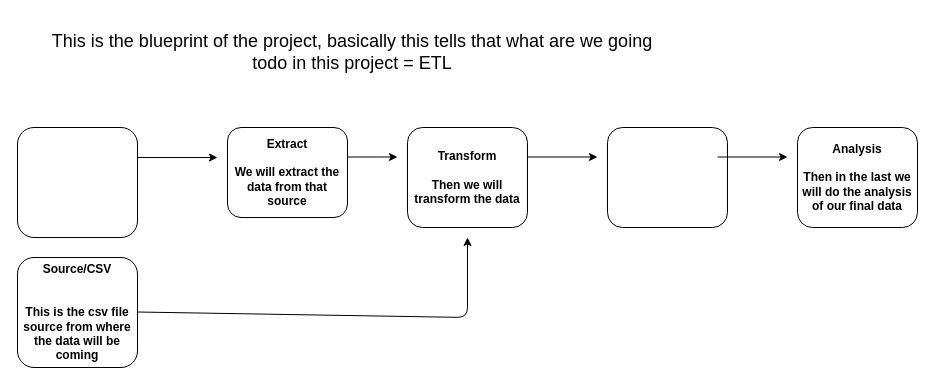
The diagram is 935 pixels wide and 385 high, and some of its shapes have lost their labels. The shapes that lost their labels are listed below. From the top down, each one's box as (x1, y1, x2, y2) in pixels, then its label:
(16, 126, 138, 238): Source/API This is from where the data will be coming
(606, 126, 728, 228): Load And in the last we will load it into our database
